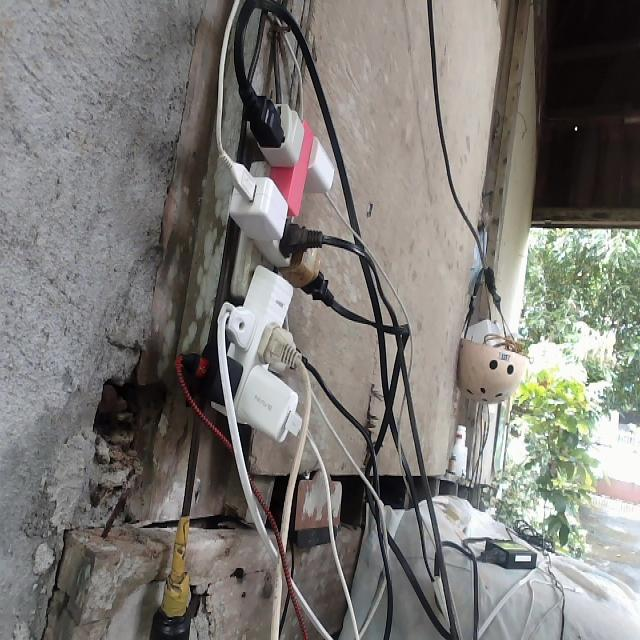-: (195, 96, 336, 441)
